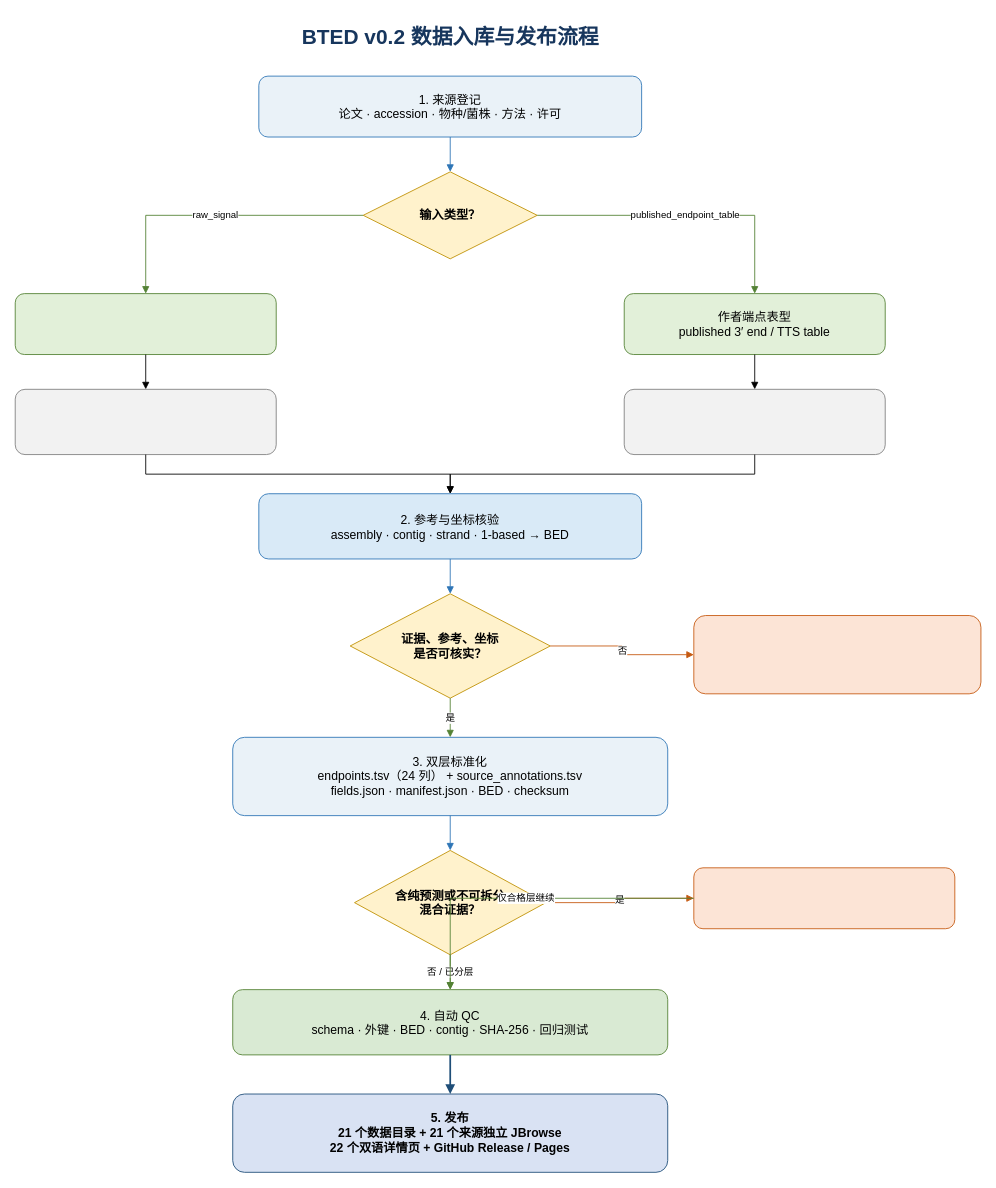
This 996x1188 diagram has some shape labels left out. Each missing label, with the centre of its shape:
audit_only / blocked 记录原因、已尝试入口和恢复条件 不生成端点表与 JBrowse: the point at 837,654
保留作者端点定义 登记 sheet、原始行与字段: the point at 754,421
原始信号型 WIG / bedGraph / BAM: the point at 145,324
按 contig / strand 标准化信号 本站调用峰单列为 candidate: the point at 145,421
排除公开端点层 保留审计摘要与 checksum: the point at 824,898
